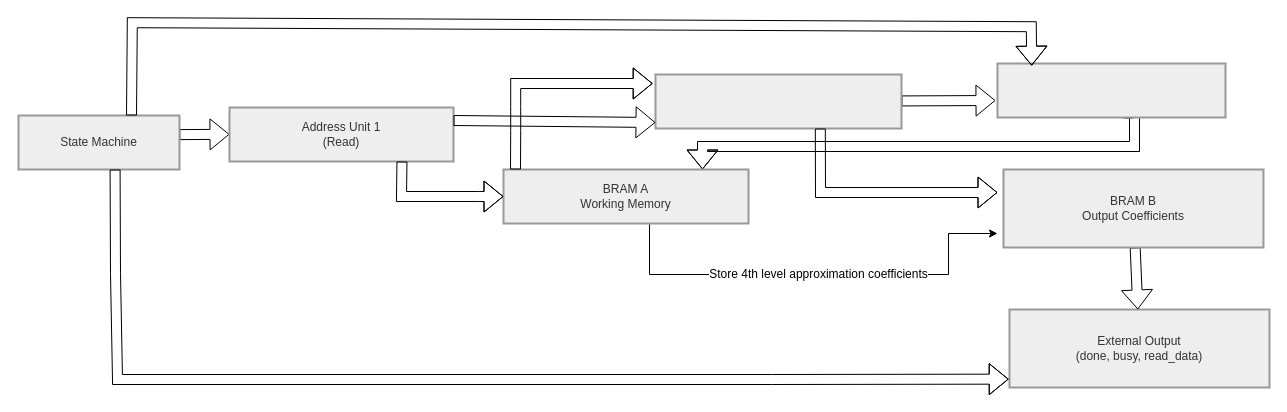
This 1287x412 diagram has some shape labels left out. Each missing label, with the box of its shape:
Address Unit 2 (Write): (996, 62, 1226, 118)
LDWT DB4 Lifting Engine: (654, 73, 902, 129)
